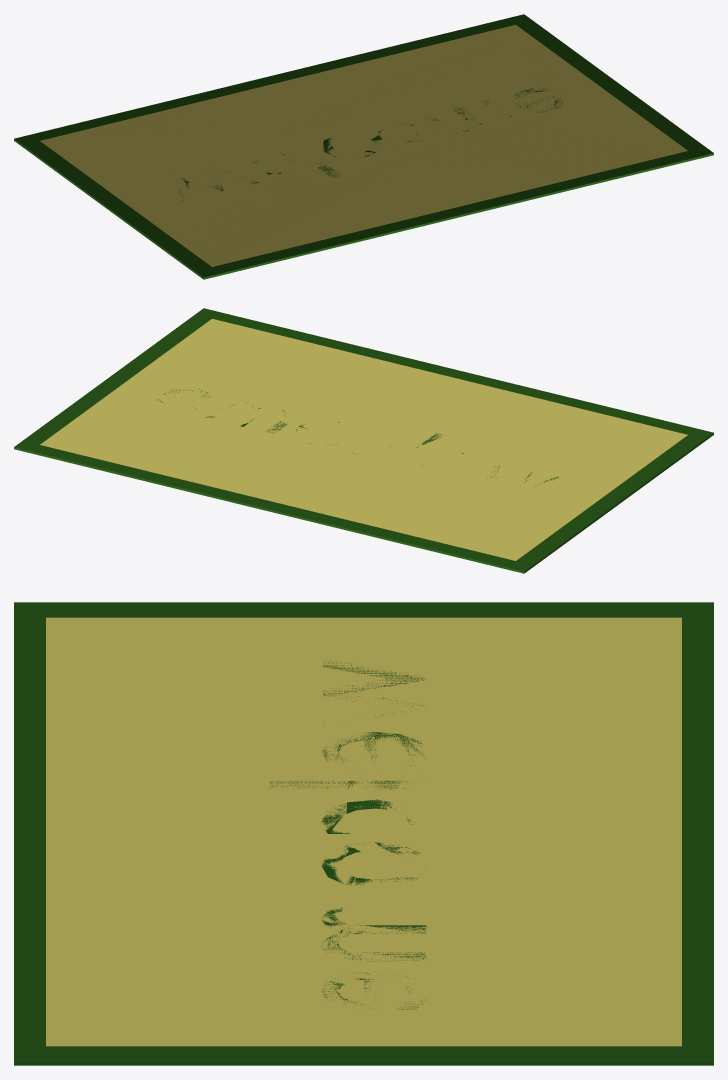
The picture shows the model from 3 angles, top to bottom: view 1: azimuth 30°, elevation 25°; view 2: azimuth 150°, elevation 25°; view 3: azimuth 270°, elevation 25°; orthographic projection. The views are drawn at different scales.
Parts seen in each view (by area): view 1: Node 0; view 2: Node 0; view 3: Node 0.
Part boxes in pixels (left/top/right/bottom): Node 0: left=14, top=14, right=713, bottom=279; Node 0: left=14, top=308, right=713, bottom=573; Node 0: left=14, top=602, right=713, bottom=1065.
Bounding box in the file's own units: 0.8313 × 0.0053 × 1.29.
